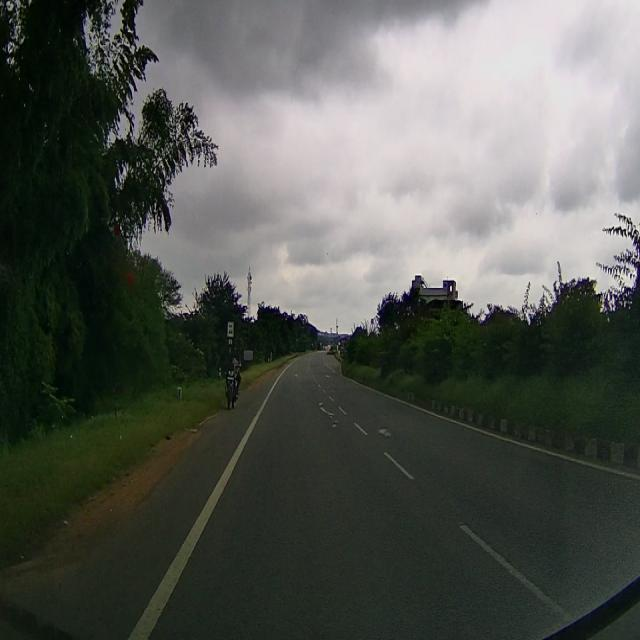motorcycle ahead at: (219, 355, 247, 409)
